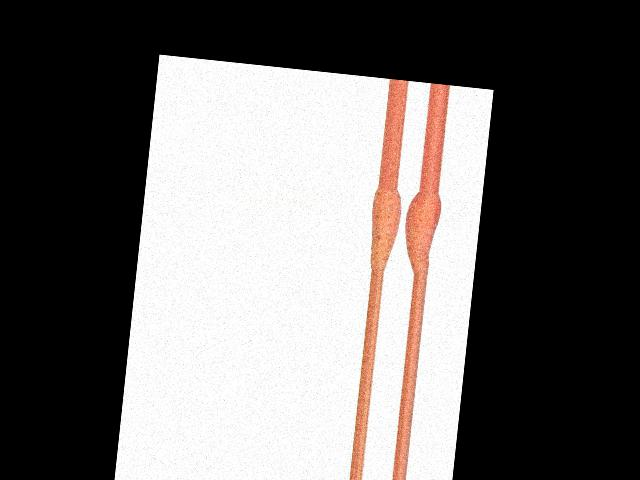sweet_potato: (367, 186, 403, 269)
